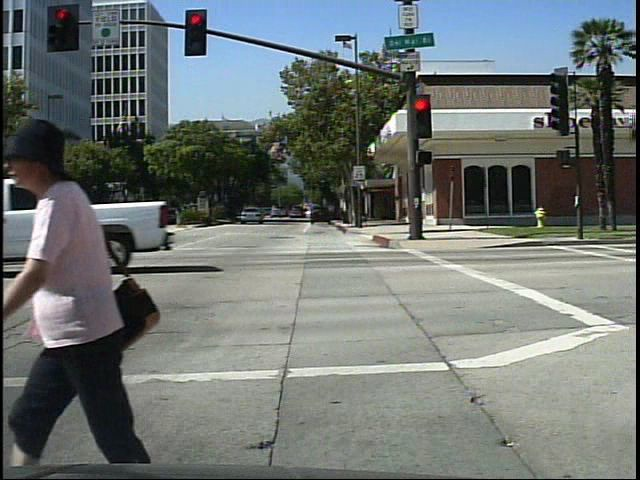person: (0, 107, 165, 469)
